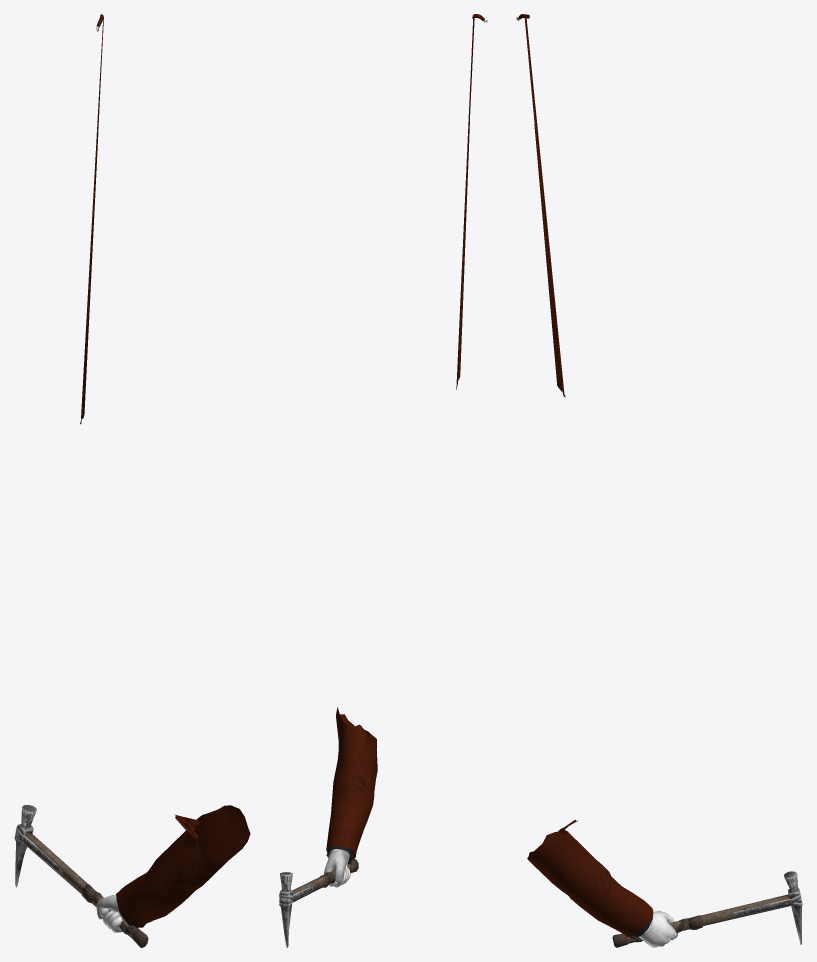
Rendered from frame_20.obj.
The picture shows the model from 3 angles, left to right: view 1: azimuth 30°, elevation 25°; view 2: azimuth 150°, elevation 25°; view 3: azimuth 270°, elevation 25°; orthographic projection. The views are drawn at different scales.
Parts seen in each view (by area): view 1: PlayerModelMerged.001_PlayerModelMerged, Cube.028; view 2: PlayerModelMerged.001_PlayerModelMerged, Cube.028; view 3: PlayerModelMerged.001_PlayerModelMerged, Cube.028.
Part boxes in pixels (x1,y1,x2,y2): PlayerModelMerged.001_PlayerModelMerged: (80,14,250,932); Cube.028: (14,805,148,947); PlayerModelMerged.001_PlayerModelMerged: (323,14,487,887); Cube.028: (279,859,358,947); PlayerModelMerged.001_PlayerModelMerged: (516,14,677,947); Cube.028: (612,871,802,947).
Bounding box in the file's own units: 0.6917 × 4.07 × 1.17.
